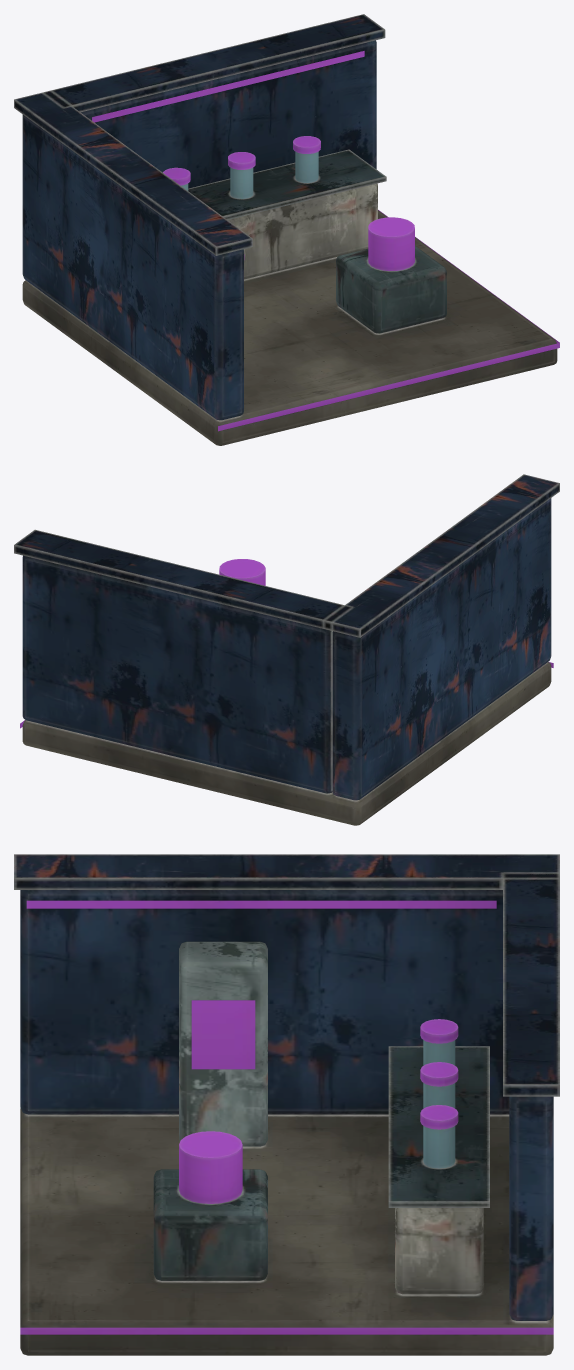
The model's file is physics_lab.glb.
3 renders of one model, top to bottom at view 1: azimuth 30°, elevation 25°; view 2: azimuth 150°, elevation 25°; view 3: azimuth 270°, elevation 25°, orthographic. The views are drawn at different scales.
Parts seen in each view (by area): view 1: te_physics_lab; view 2: te_physics_lab; view 3: te_physics_lab.
Part boxes in pixels (box(x1,y1,x2,y2)): te_physics_lab: box(14, 14, 559, 445); te_physics_lab: box(14, 474, 559, 825); te_physics_lab: box(14, 854, 559, 1355).
Size of the model in its own units: 0.86 by 0.48 by 0.86.
1 material, 1 textured.
